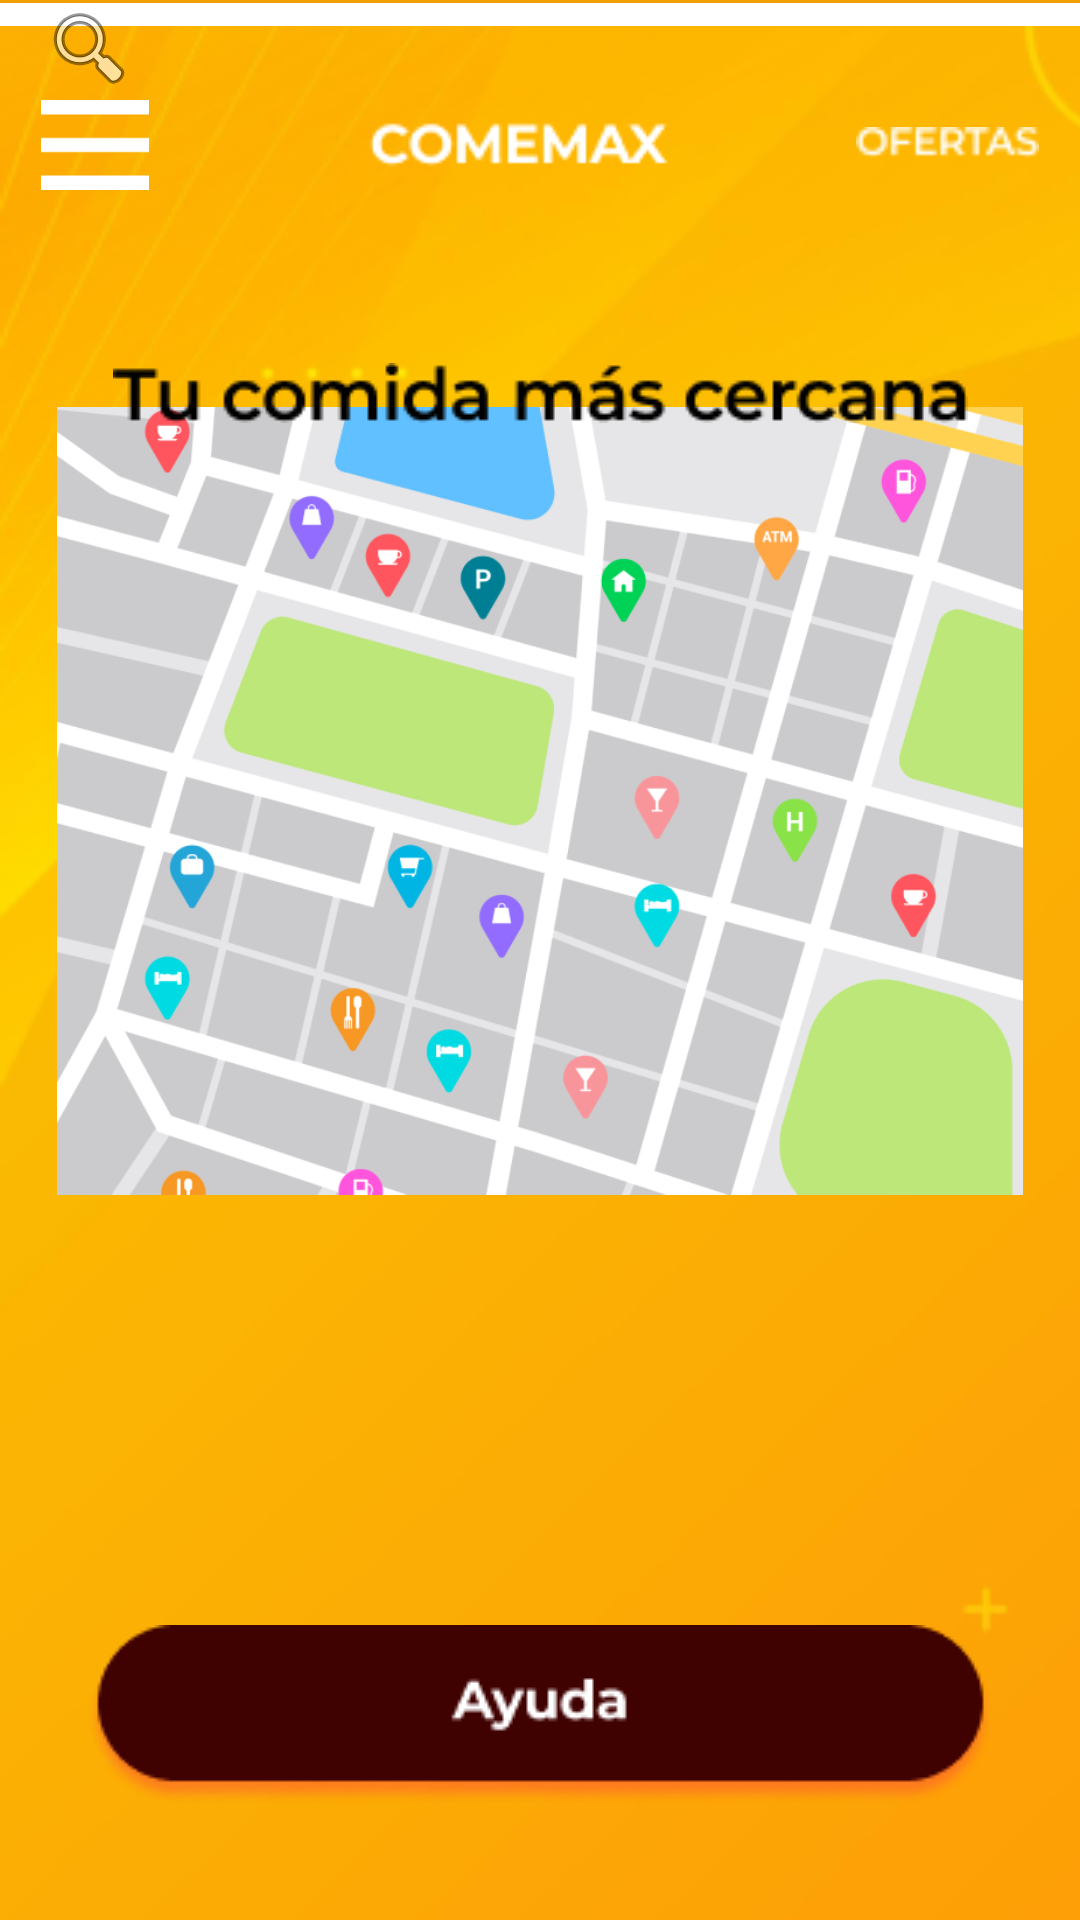

Icon bounding boxes for this 1080×1920 phone screenshot, format (x1=x1, y1=y1, x2=x2, y2=y2):
hamburguesa: (x1=41, y1=100, x2=149, y2=190)
search: (x1=41, y1=3, x2=137, y2=84)
